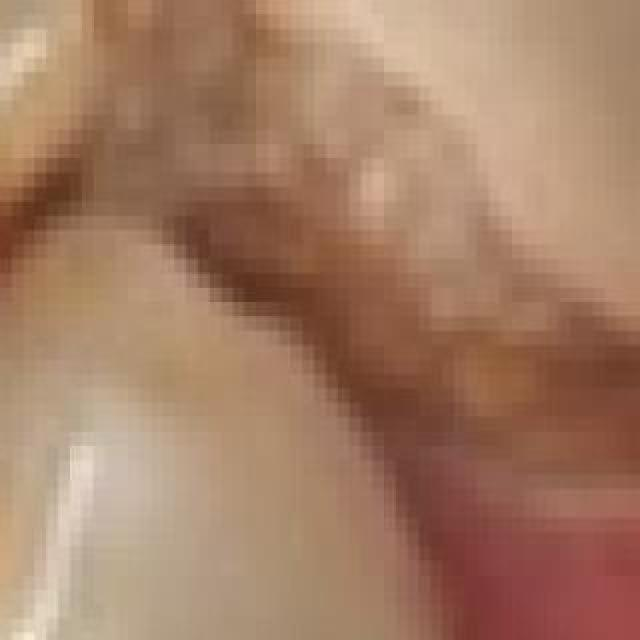cavities: (0, 4, 640, 516), (0, 172, 548, 640)
